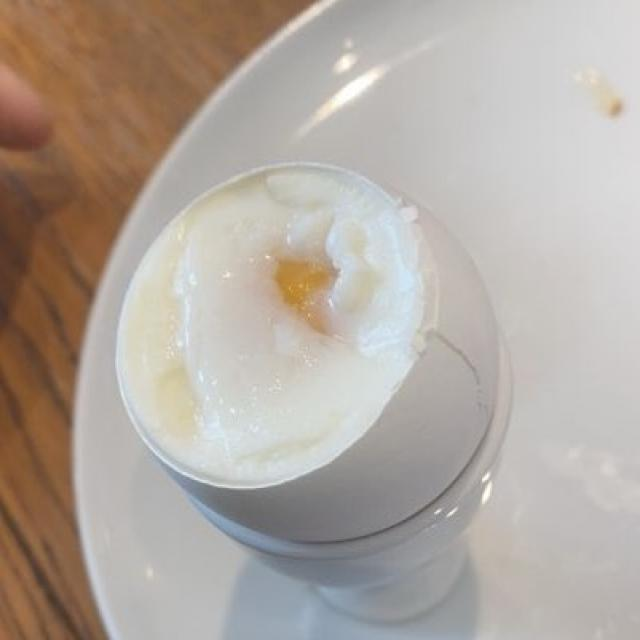egg: (127, 170, 433, 481)
